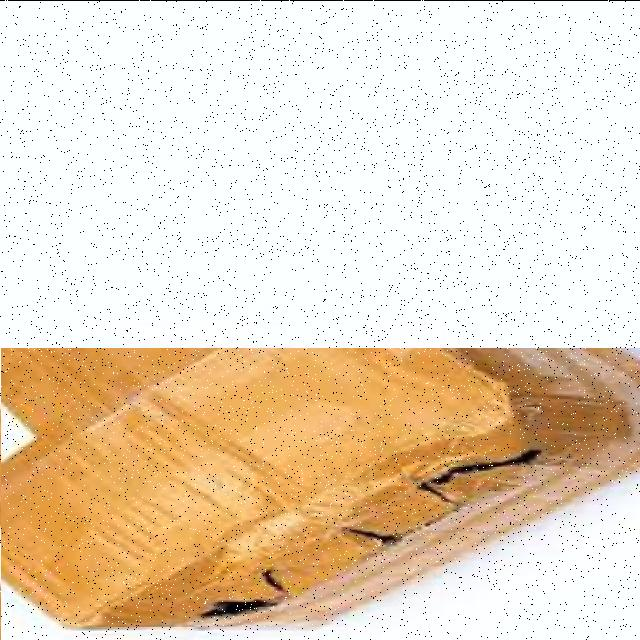defect: (1, 347, 640, 640)
